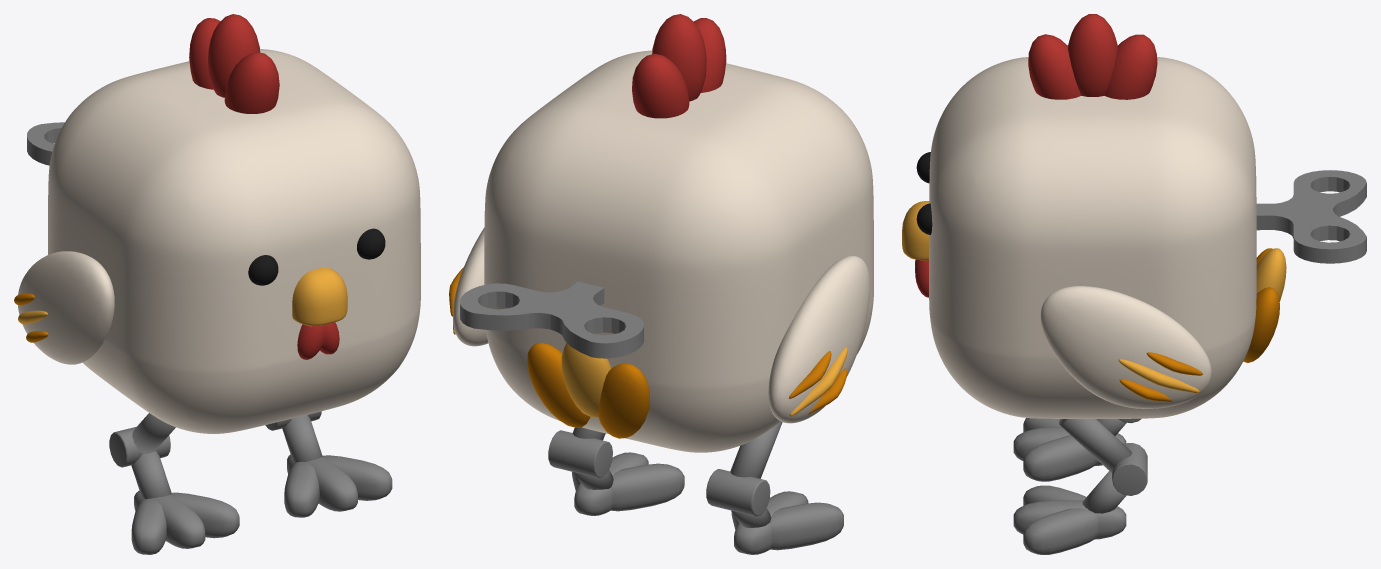
The model's file is chicken.glb.
3 views of the same model, side by side, from view 1: azimuth 30°, elevation 25°; view 2: azimuth 150°, elevation 25°; view 3: azimuth 270°, elevation 25° (orthographic). The views are drawn at different scales.
Visible parts, largest first — view 1: Cube, Cube.003, Icosphere.008, Icosphere.005, Cube.001, Icosphere, Sphere, Icosphere.006, Icosphere.007, Cube.002; view 2: Cube, Cube.003, Icosphere.008, Cube.002, Icosphere.014, Icosphere.006, Icosphere, Icosphere.013, Icosphere.012, Icosphere.005, Icosphere.009, Icosphere.010; view 3: Cube, Cube.003, Icosphere.008, Cube.002, Icosphere, Icosphere.005, Icosphere.006, Icosphere.013, Cube.001, Icosphere.012, Icosphere.010, Sphere.
Boxes of the visible parts, left/top/right/bottom form: Cube: left=48, top=49, right=420, bottom=433; Cube.003: left=109, top=411, right=392, bottom=554; Icosphere.008: left=18, top=251, right=114, bottom=364; Icosphere.005: left=224, top=52, right=279, bottom=113; Cube.001: left=292, top=267, right=347, bottom=326; Icosphere: left=208, top=14, right=260, bottom=97; Sphere: left=248, top=228, right=385, bottom=285; Icosphere.006: left=189, top=18, right=220, bottom=89; Icosphere.007: left=297, top=322, right=339, bottom=359; Cube.002: left=27, top=122, right=64, bottom=165; Cube: left=484, top=50, right=873, bottom=452; Cube.003: left=548, top=421, right=843, bottom=554; Icosphere.008: left=453, top=227, right=870, bottom=423; Cube.002: left=460, top=281, right=643, bottom=358; Icosphere.014: left=598, top=363, right=649, bottom=438; Icosphere.006: left=632, top=53, right=689, bottom=118; Icosphere: left=652, top=14, right=706, bottom=101; Icosphere.013: left=527, top=342, right=590, bottom=427; Icosphere.012: left=561, top=343, right=611, bottom=417; Icosphere.005: left=693, top=18, right=726, bottom=92; Icosphere.009: left=449, top=267, right=831, bottom=398; Icosphere.010: left=453, top=323, right=847, bottom=416; Cube: left=929, top=57, right=1256, bottom=418; Cube.003: left=1013, top=418, right=1147, bottom=554; Icosphere.008: left=1040, top=286, right=1211, bottom=408; Cube.002: left=1256, top=170, right=1366, bottom=263; Icosphere: left=1068, top=14, right=1117, bottom=96; Icosphere.005: left=1028, top=34, right=1080, bottom=99; Icosphere.006: left=1104, top=34, right=1157, bottom=99; Icosphere.013: left=1243, top=287, right=1279, bottom=362; Cube.001: left=902, top=201, right=929, bottom=260; Icosphere.012: left=1256, top=248, right=1286, bottom=301; Icosphere.010: left=1118, top=359, right=1199, bottom=392; Sphere: left=916, top=152, right=932, bottom=234.
Bounding box in the file's own units: 0.3193 × 0.4175 × 0.3622.
